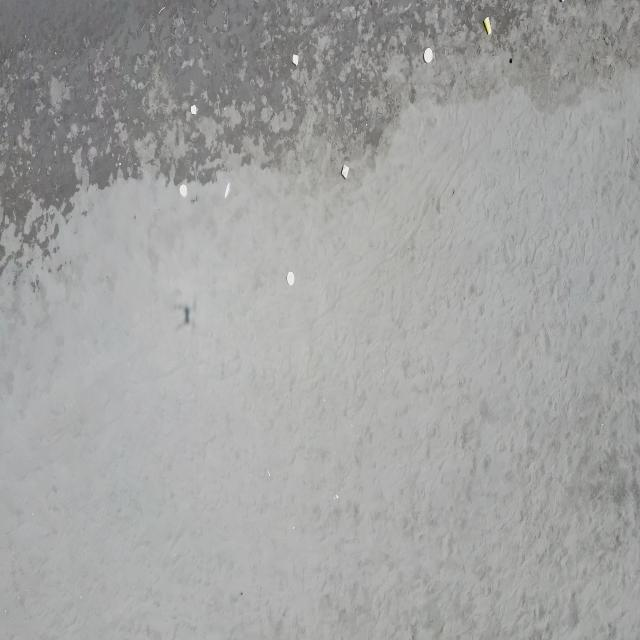take-away-containers: (340, 164, 350, 181), (423, 47, 433, 64), (286, 270, 295, 286), (179, 184, 188, 198), (292, 53, 299, 67), (190, 104, 197, 116)
takeaway-cup: (484, 16, 492, 36)
